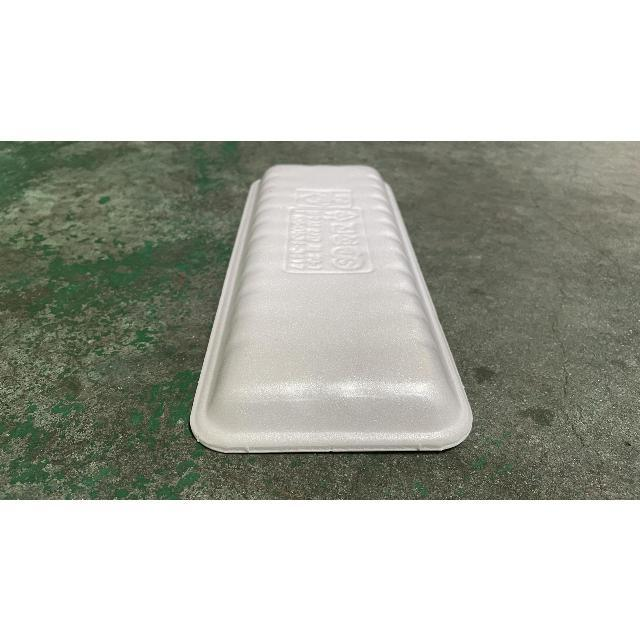Recipiente plastico: (191, 165, 471, 452)
